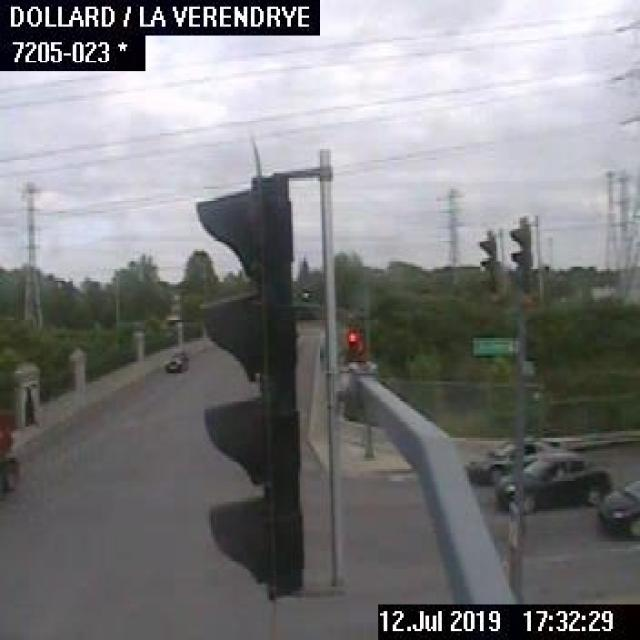vehicle: (494, 452, 610, 509), (463, 441, 564, 483), (600, 474, 638, 541), (0, 404, 16, 495), (164, 349, 187, 373)
